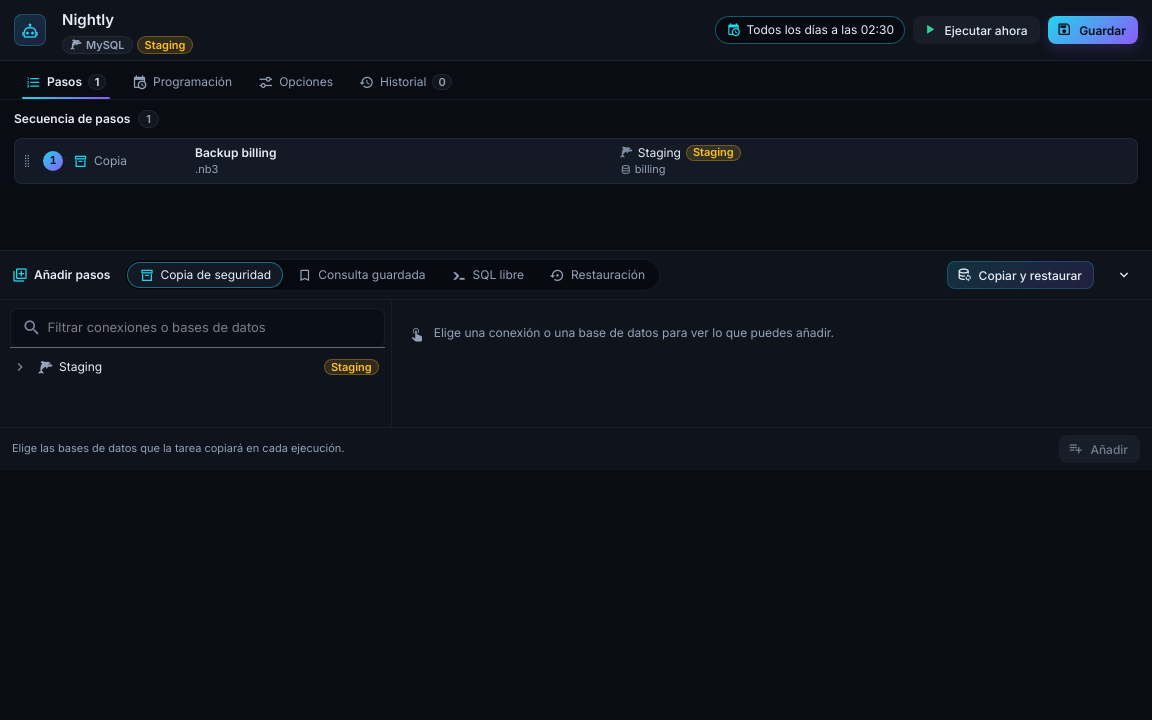
Test case: JobEditorView › offers "Ejecutar aunque la app esté cerrada" on macOS
Click the tab "Programación": {"x": 182, "y": 82} [120,65,244,99]
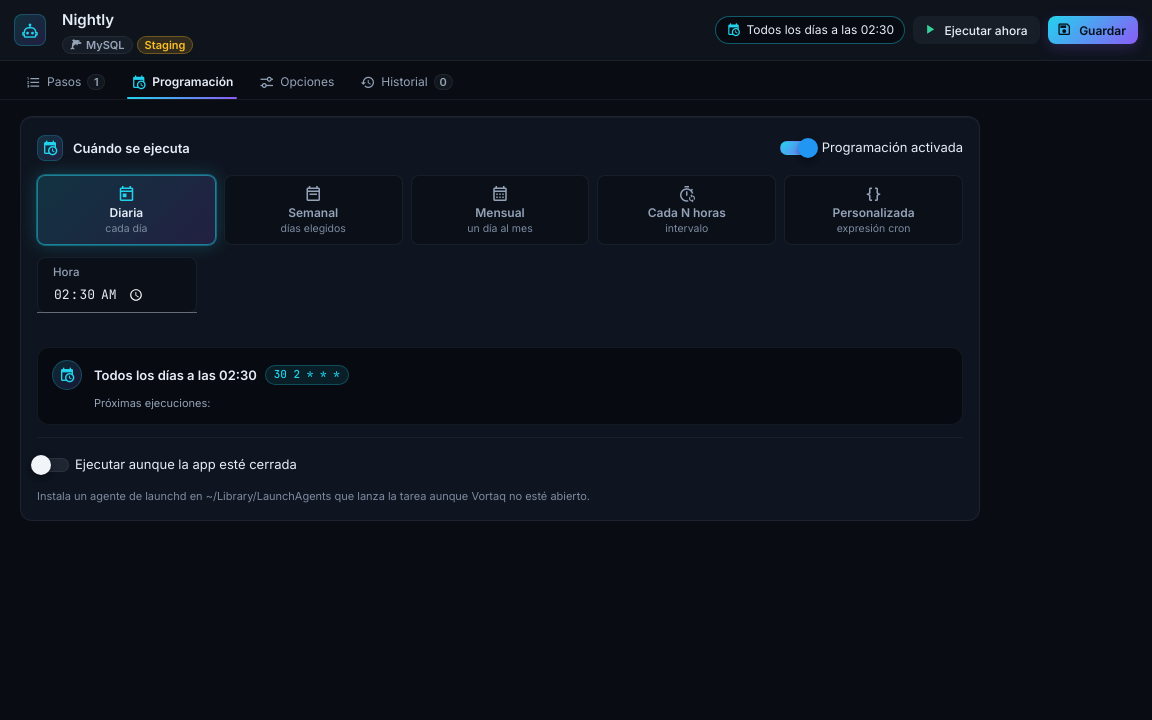
expect the checkbox labelled "Ejecutar aunque la app esté cerrada" is enabled: met, box [75,456,297,472]
